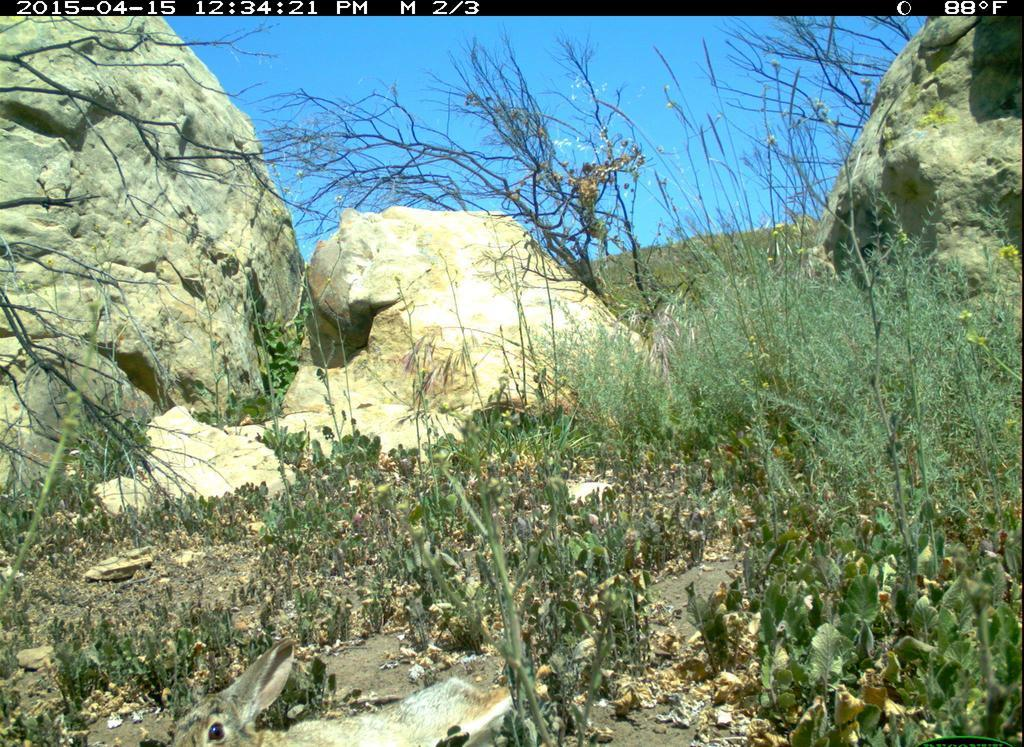rabbit: (162, 630, 521, 747)
